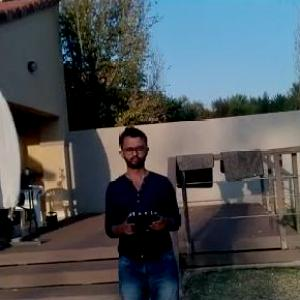follow: (102, 123, 190, 299)
